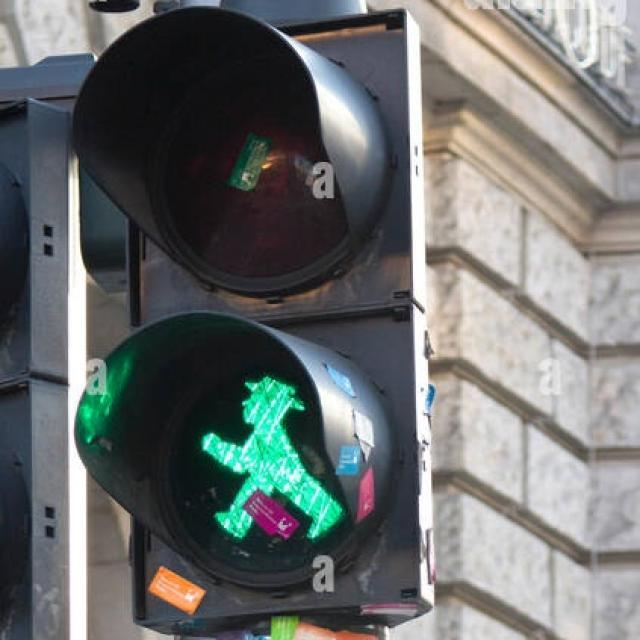green_light: (198, 352, 344, 546)
